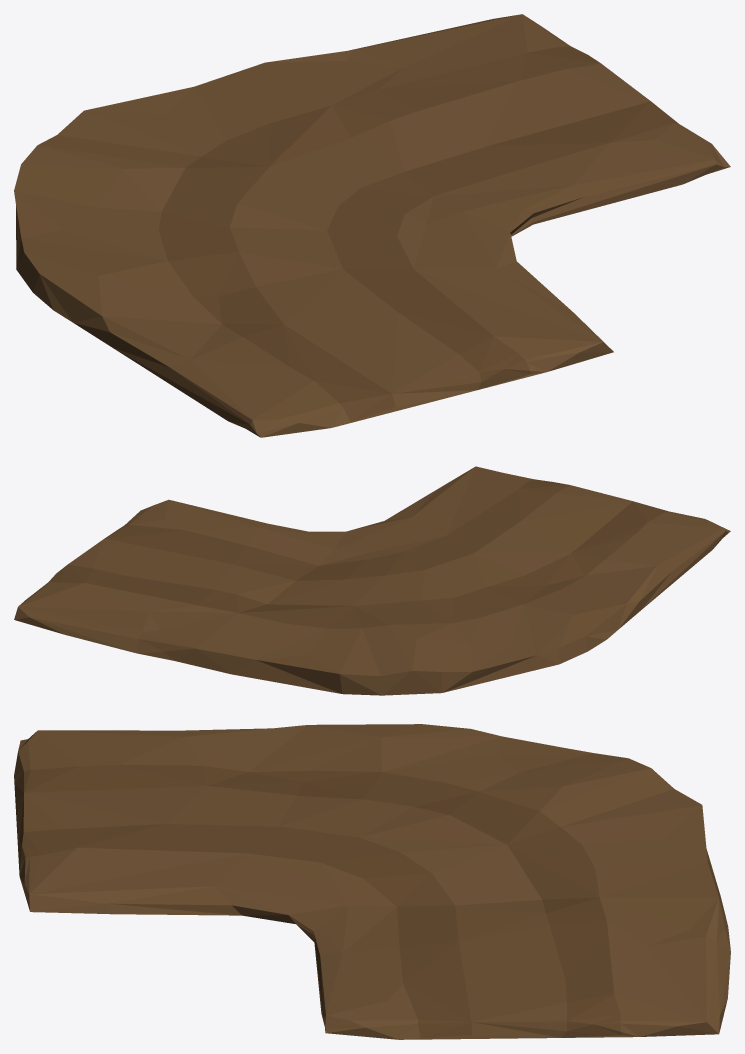
File: Mesh_Landscape_MudRoad_05.FBX
The picture shows the model from 3 angles, top to bottom: view 1: azimuth 30°, elevation 25°; view 2: azimuth 150°, elevation 25°; view 3: azimuth 270°, elevation 25°; orthographic projection. The views are drawn at different scales.
Visible parts, largest first — view 1: Mesh_Landscape_MudRoad_05; view 2: Mesh_Landscape_MudRoad_05; view 3: Mesh_Landscape_MudRoad_05.
Boxes of the visible parts, bbox=[...] form: Mesh_Landscape_MudRoad_05: bbox=[14, 14, 730, 437]; Mesh_Landscape_MudRoad_05: bbox=[14, 466, 730, 695]; Mesh_Landscape_MudRoad_05: bbox=[14, 724, 730, 1039].
Bounding box in the file's own units: 603 × 601 × 27.41.
